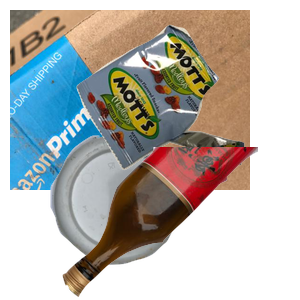cardboard: (10, 10, 250, 190)
glass: (60, 147, 300, 300)
plastic: (48, 132, 224, 300)
trash: (74, 22, 300, 185)
